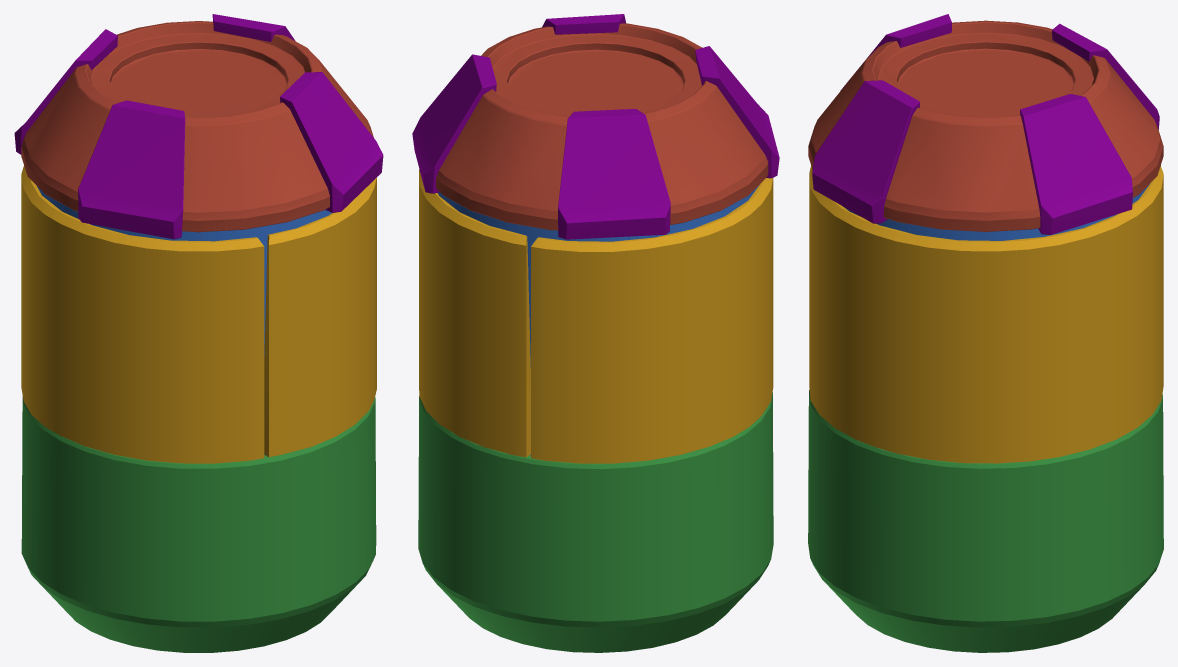
The model's file is SM_Barrel.FBX.
3 views of the same model, side by side, from view 1: azimuth 30°, elevation 25°; view 2: azimuth 150°, elevation 25°; view 3: azimuth 270°, elevation 25° (orthographic).
Visible parts, largest first — view 1: SM_Barrel; view 2: SM_Barrel; view 3: SM_Barrel.
Part boxes in pixels (x1,y1,x2,y2): SM_Barrel: (14,14,383,652); SM_Barrel: (412,14,779,652); SM_Barrel: (808,14,1163,652).
Size of the model in its own units: 43.09 by 43.03 by 70.61.
